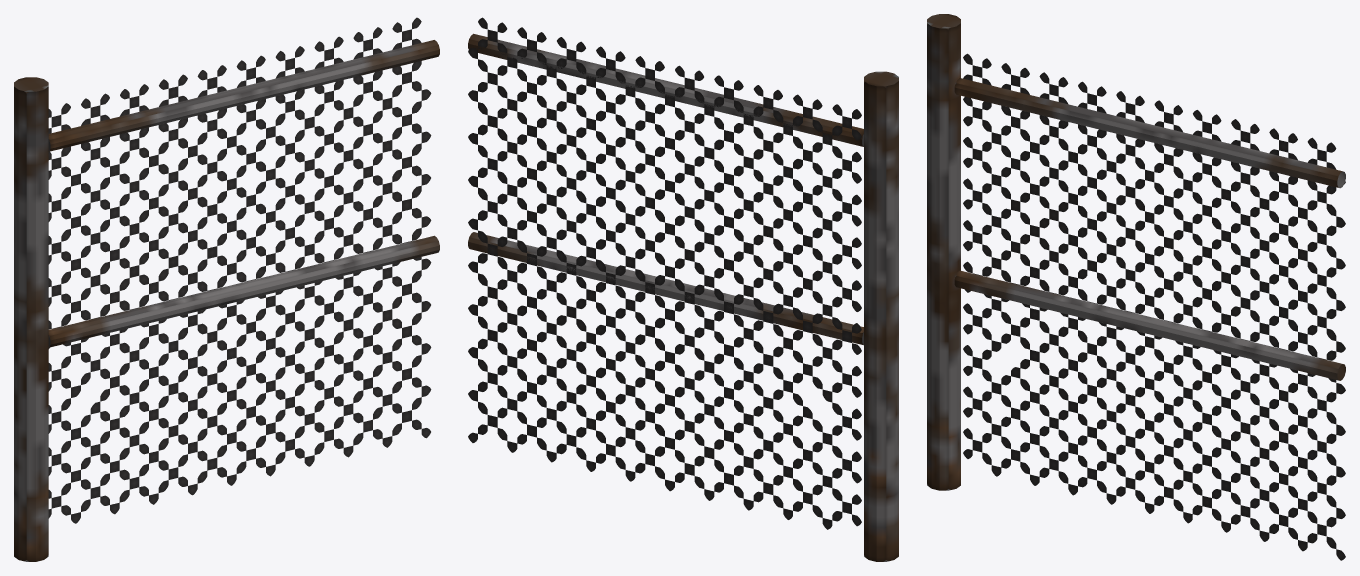
The model's file is chainlink_fence.fbx.
The picture shows the model from 3 angles, left to right: view 1: azimuth 30°, elevation 25°; view 2: azimuth 150°, elevation 25°; view 3: azimuth 330°, elevation 25°; orthographic projection. The views are drawn at different scales.
Parts seen in each view (by area): view 1: plane, cylinder, cylinder_2, cylinder_1; view 2: plane, cylinder, cylinder_1, cylinder_2; view 3: plane, cylinder, cylinder_2, cylinder_1.
Boxes of the visible parts, x1=… form: plane: x1=48, y1=17, x2=431, y2=523; cylinder: x1=14, y1=77, x2=48, y2=561; cylinder_2: x1=48, y1=235, x2=439, y2=347; cylinder_1: x1=48, y1=40, x2=439, y2=151; plane: x1=468, y1=17, x2=861, y2=529; cylinder: x1=864, y1=71, x2=898, y2=561; cylinder_1: x1=468, y1=33, x2=863, y2=146; cylinder_2: x1=468, y1=232, x2=863, y2=345; plane: x1=963, y1=53, x2=1345, y2=560; cylinder: x1=927, y1=14, x2=960, y2=490; cylinder_2: x1=954, y1=270, x2=1345, y2=380; cylinder_1: x1=954, y1=78, x2=1345, y2=188.
Bounding box in the file's own units: 35 × 37.5 × 2.5.
Materials: 1 (1 with a texture image).
